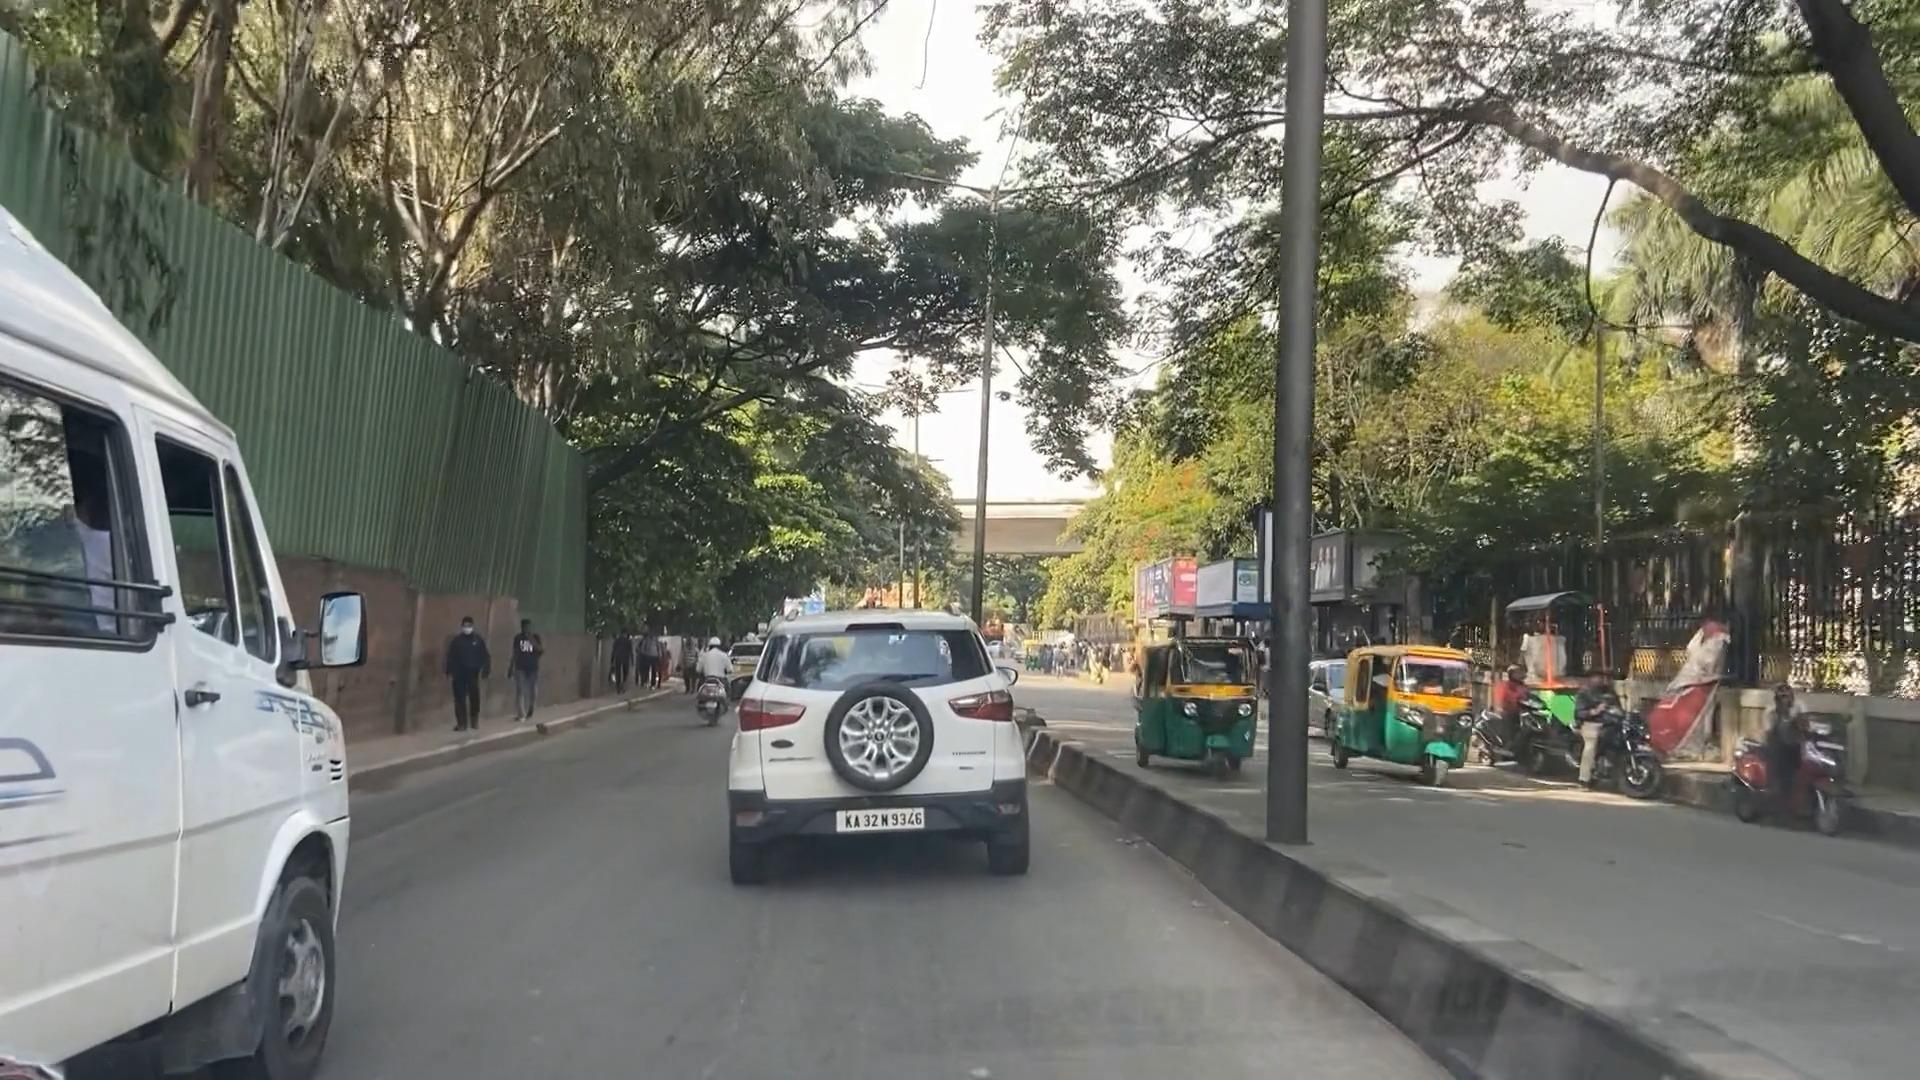HMV: (5, 251, 380, 1064)
LMV: (720, 608, 1046, 914)
